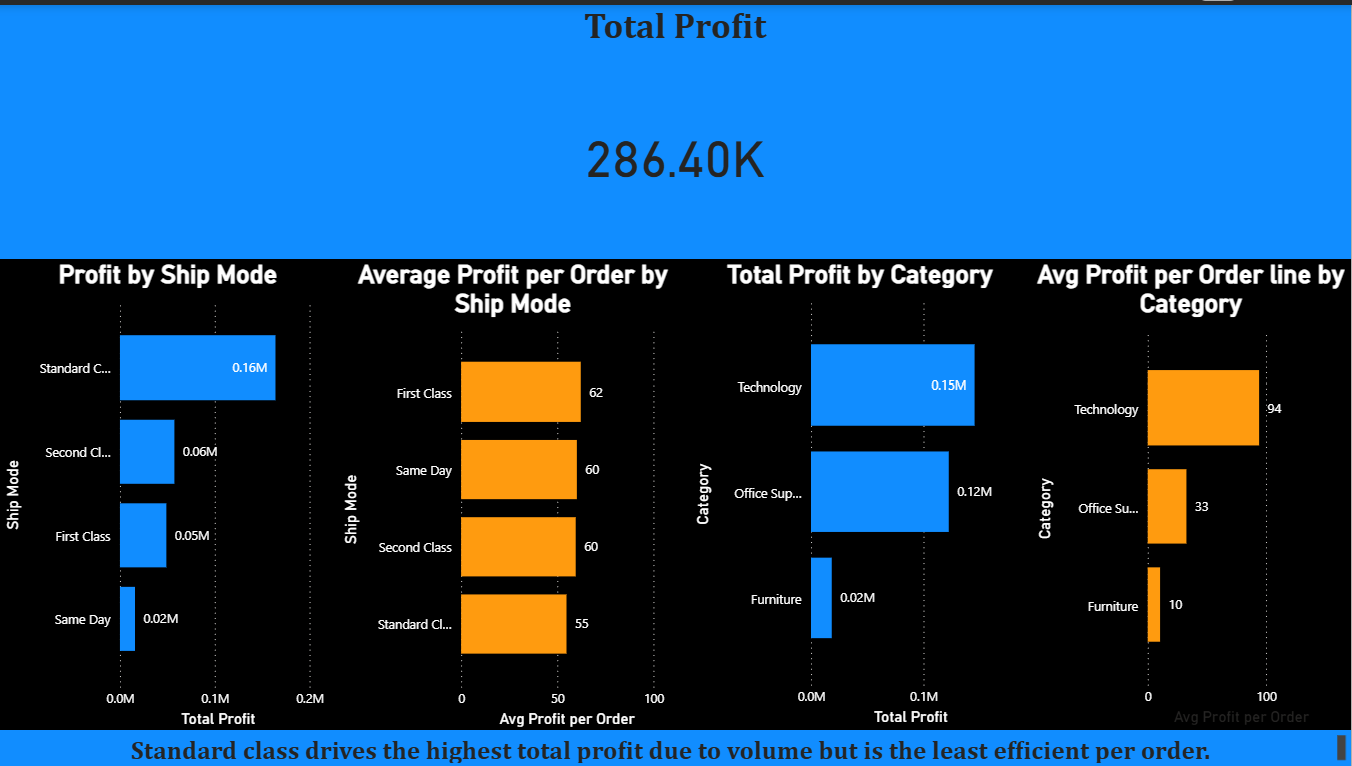

The dashboard page shown, as its layout file describes it:
{"tool":"powerbi","page":{"name":"Business Overview","canvas":[1280,720],"ordinal":0},"visuals":[{"type":"card","title":"Total Profit","fields":{"Values":["superstore.Total Profit"]},"box":[0,0,1280,284],"z":0},{"type":"clusteredBarChart","title":"Profit by Ship Mode","fields":{"Category":["superstore.Ship Mode"],"Y":["superstore.Total Profit"]},"box":[0,284,320,437.4],"z":1000},{"type":"clusteredBarChart","title":"Average Profit per Order by Ship Mode","fields":{"Category":["superstore.Ship Mode"],"Y":["superstore.Avg Profit per Order"]},"box":[320,284,333.3,437.4],"z":2000},{"type":"clusteredBarChart","fields":{"Category":["superstore.Category"],"Y":["superstore.Total Profit"]},"box":[653.3,284,323.8,435.5],"z":3000},{"type":"clusteredBarChart","title":"Avg Profit per Order line by Category","fields":{"Category":["superstore.Category"],"Y":["superstore.Avg Profit per Order"]},"box":[977,284,303,435.5],"z":4000}]}

Visuals, with their boxes in screenshot pixels (x1, y1, x2, y2), scaled from the page's 1280x720 canvas onto the 1352x766 screenshot:
"Total Profit" card: region(0, 0, 1351, 302)
"Profit by Ship Mode" clusteredBarChart: region(0, 302, 338, 765)
"Average Profit per Order by Ship Mode" clusteredBarChart: region(338, 302, 690, 765)
clusteredBarChart - superstore.Category x superstore.Total Profit: region(690, 302, 1032, 765)
"Avg Profit per Order line by Category" clusteredBarChart: region(1032, 302, 1351, 765)
